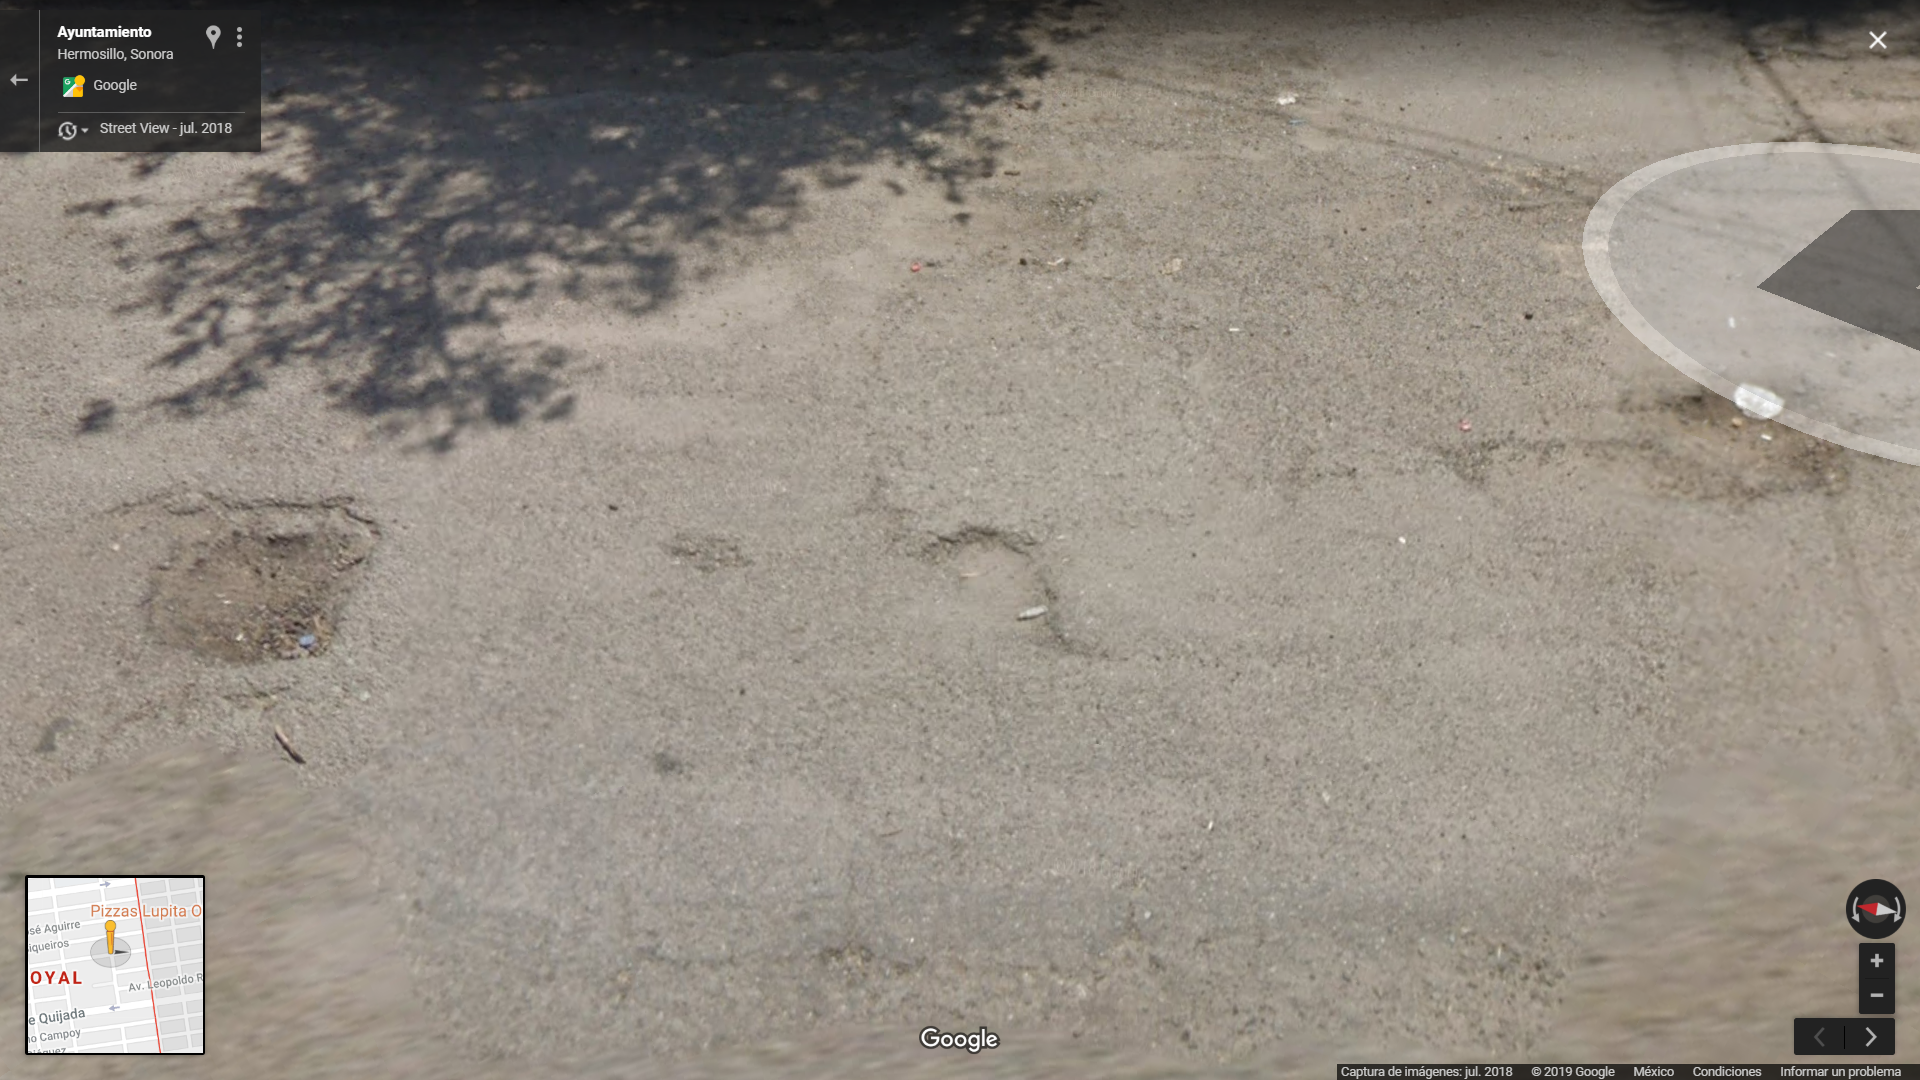pothole: (119, 462, 401, 682), (913, 500, 1102, 673), (1456, 429, 1720, 529)
